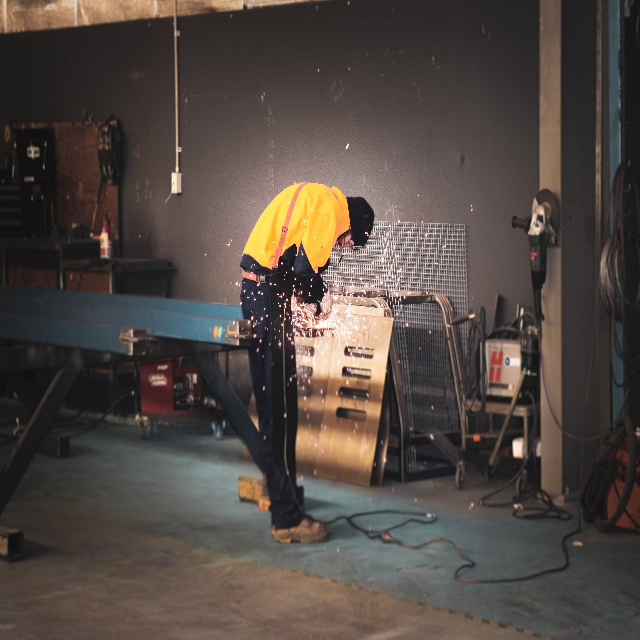Guantes: (314, 280, 333, 322), (296, 295, 317, 317)
